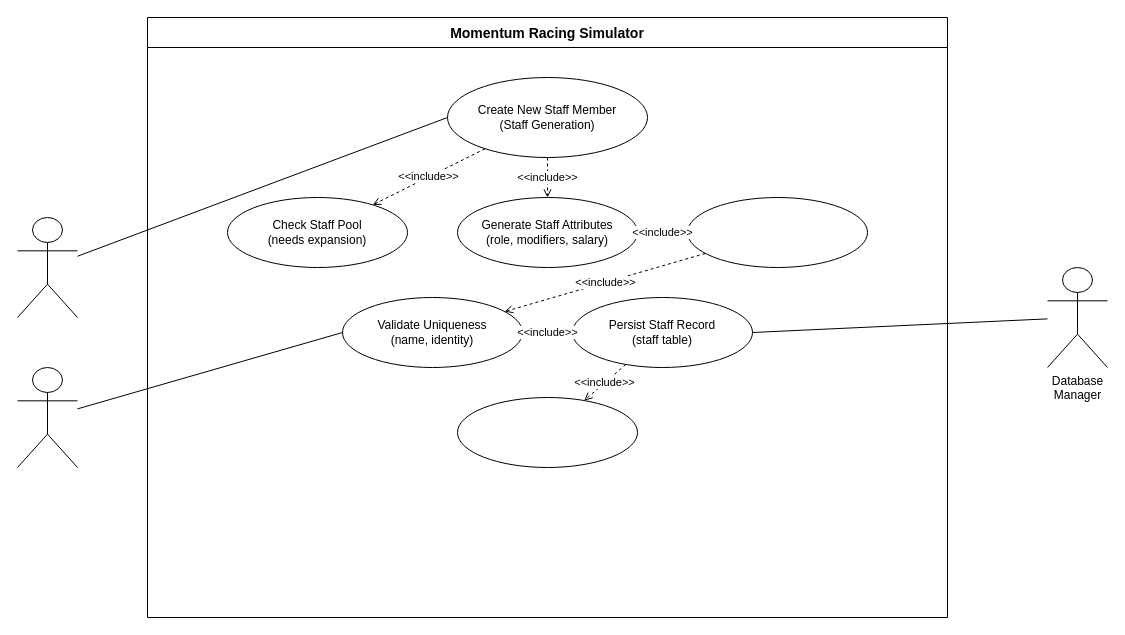
The diagram is 1125 pixels wide and 635 high, and some of its shapes have lost their labels. Each missing label, with the centre of its shape:
Admin: (47,267)
Assign Role (25+ staff roles): (777,232)
Return Created Staff (201 Created): (547,432)
System: (47,417)
